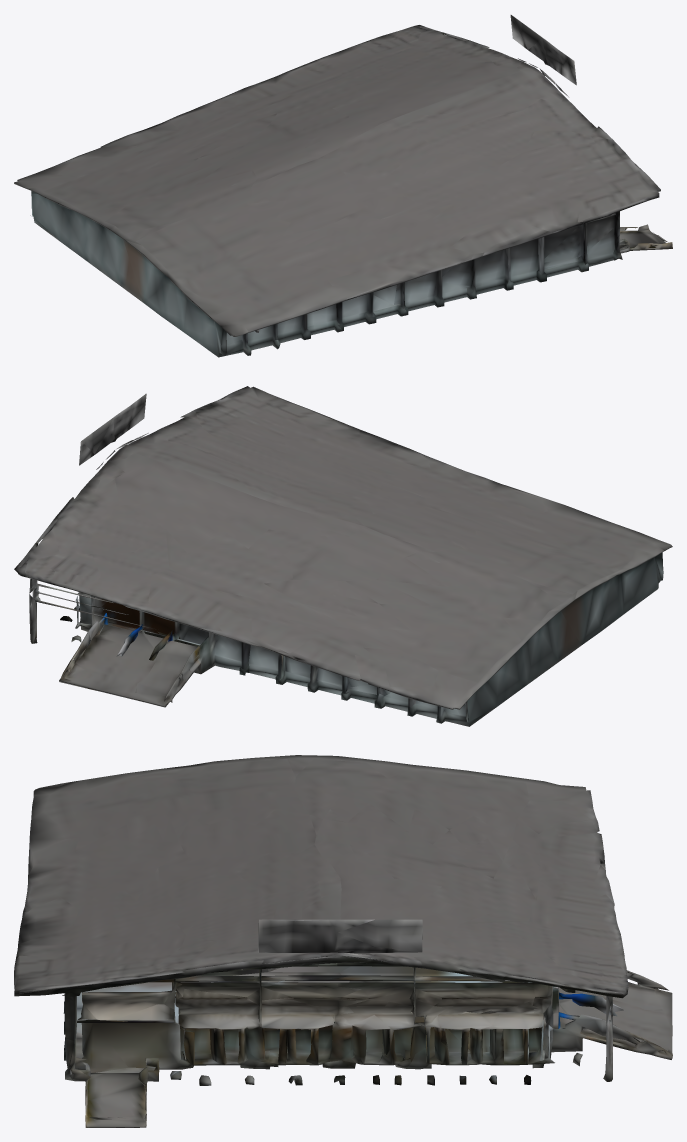
The model's file is gudang.glb.
3 renders of one model, top to bottom at view 1: azimuth 30°, elevation 25°; view 2: azimuth 150°, elevation 25°; view 3: azimuth 270°, elevation 25°, orthographic. The views are drawn at different scales.
Parts seen in each view (by area): view 1: tripo_node_2289751c; view 2: tripo_node_2289751c; view 3: tripo_node_2289751c.
Part boxes in pixels (left/top/right/bottom): tripo_node_2289751c: left=14, top=15, right=672, bottom=357; tripo_node_2289751c: left=14, top=386, right=672, bottom=726; tripo_node_2289751c: left=14, top=755, right=672, bottom=1127.
Size of the model in its own units: 99.98 by 30.07 by 95.19.
Materials: 1 (1 with a texture image).
